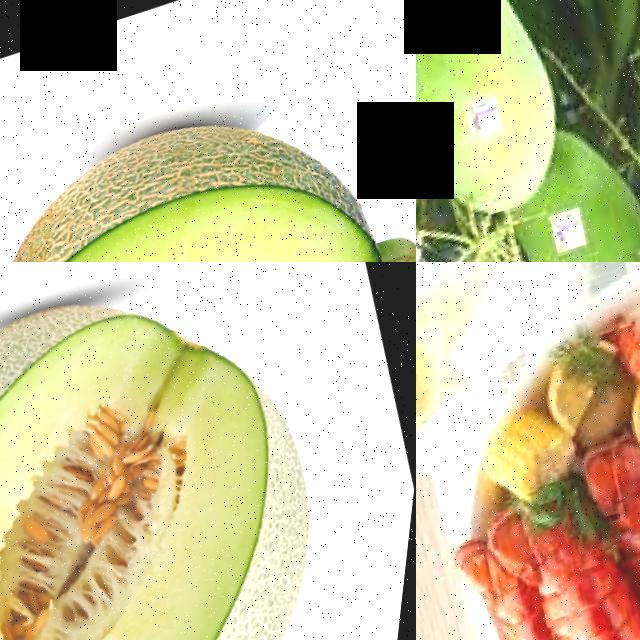lobster tails: (447, 528, 606, 640), (541, 537, 640, 640), (574, 426, 640, 573)
mango: (416, 0, 604, 235), (416, 0, 447, 218)
melon: (0, 262, 416, 640), (0, 56, 416, 262)
